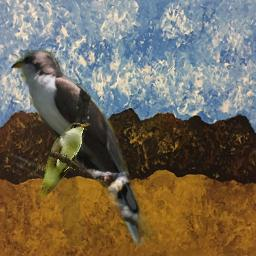Cuckoo: (9, 50, 157, 246), (38, 122, 91, 199)
